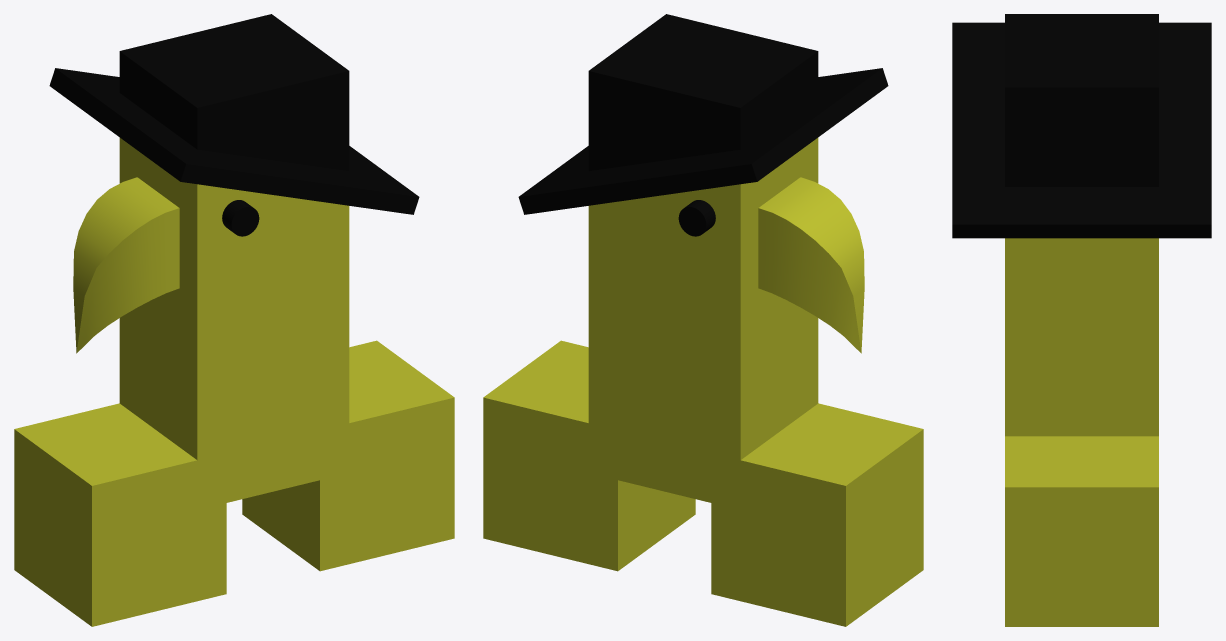
The model's file is Trumbus.fbx.
3 renders of one model, left to right at view 1: azimuth 30°, elevation 25°; view 2: azimuth 150°, elevation 25°; view 3: azimuth 270°, elevation 25°, orthographic.
Parts seen in each view (by area): view 1: Cube; view 2: Cube; view 3: Cube.
Boxes of the visible parts, x1=… form: Cube: x1=14, y1=14, x2=454, y2=626; Cube: x1=483, y1=14, x2=923, y2=626; Cube: x1=952, y1=14, x2=1211, y2=626.
Bounding box in the file's own units: 35.22 × 45.77 × 22.04.
